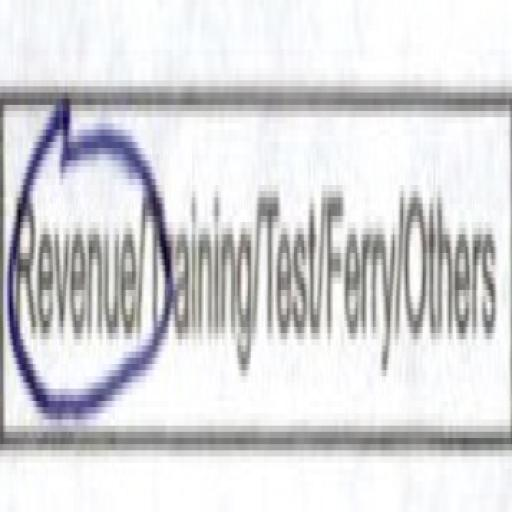check: (2, 13, 144, 512)
